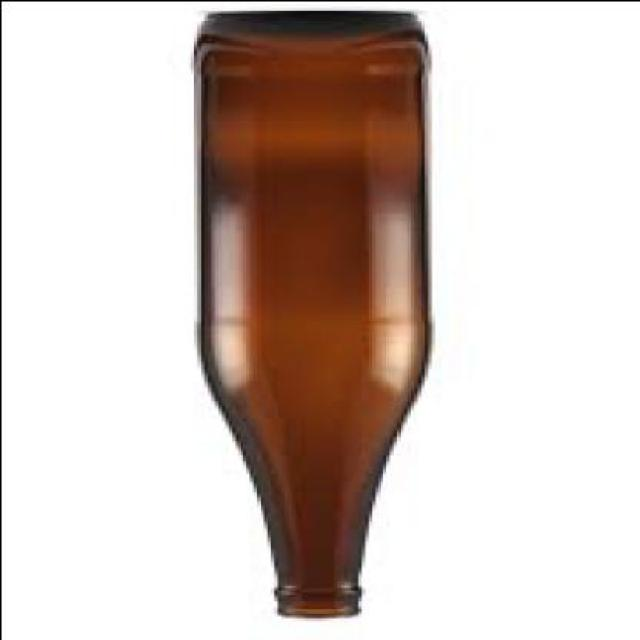GLASS: (195, 12, 434, 619)
